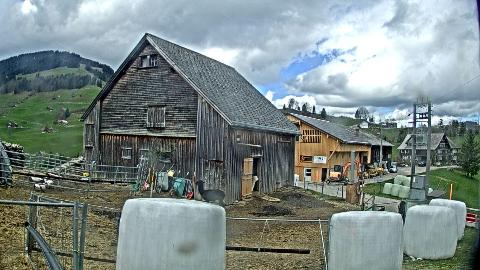car: (388, 165, 398, 173), (418, 161, 426, 167)
sheep: (195, 180, 225, 208), (252, 176, 258, 192)
